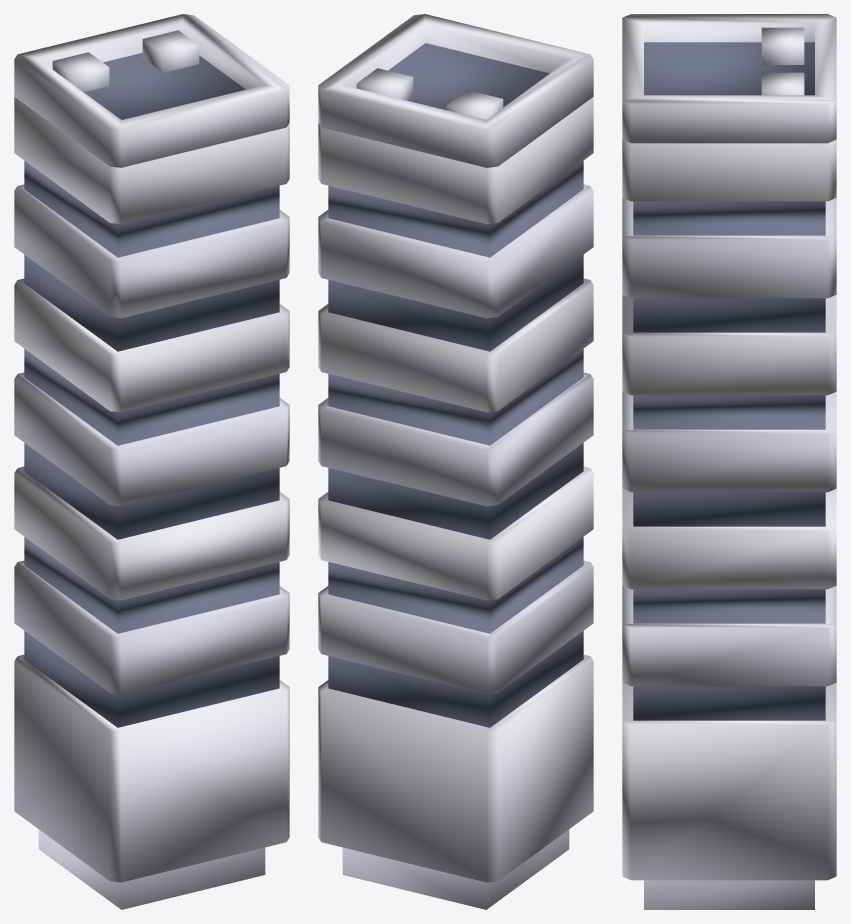
The model's file is low-detail-building-h_lev1.glb.
3 renders of one model, left to right at view 1: azimuth 30°, elevation 25°; view 2: azimuth 150°, elevation 25°; view 3: azimuth 270°, elevation 25°, orthographic. The views are drawn at different scales.
Parts seen in each view (by area): view 1: low-detail-building-h_lev1; view 2: low-detail-building-h_lev1; view 3: low-detail-building-h_lev1.
Boxes of the visible parts, x1=… form: low-detail-building-h_lev1: x1=14, y1=14, x2=289, y2=909; low-detail-building-h_lev1: x1=318, y1=14, x2=593, y2=909; low-detail-building-h_lev1: x1=622, y1=14, x2=836, y2=909.
Size of the model in its own units: 0.5 by 2.1 by 0.5.
Materials: 1 (1 with a texture image).
